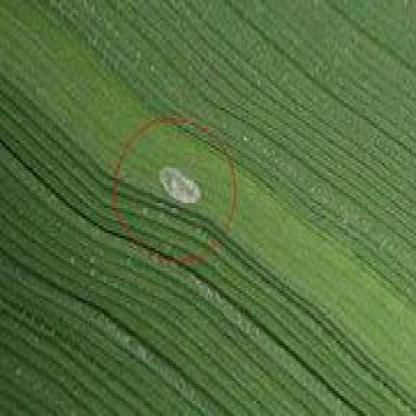leaf-folder: (151, 138, 206, 224)
